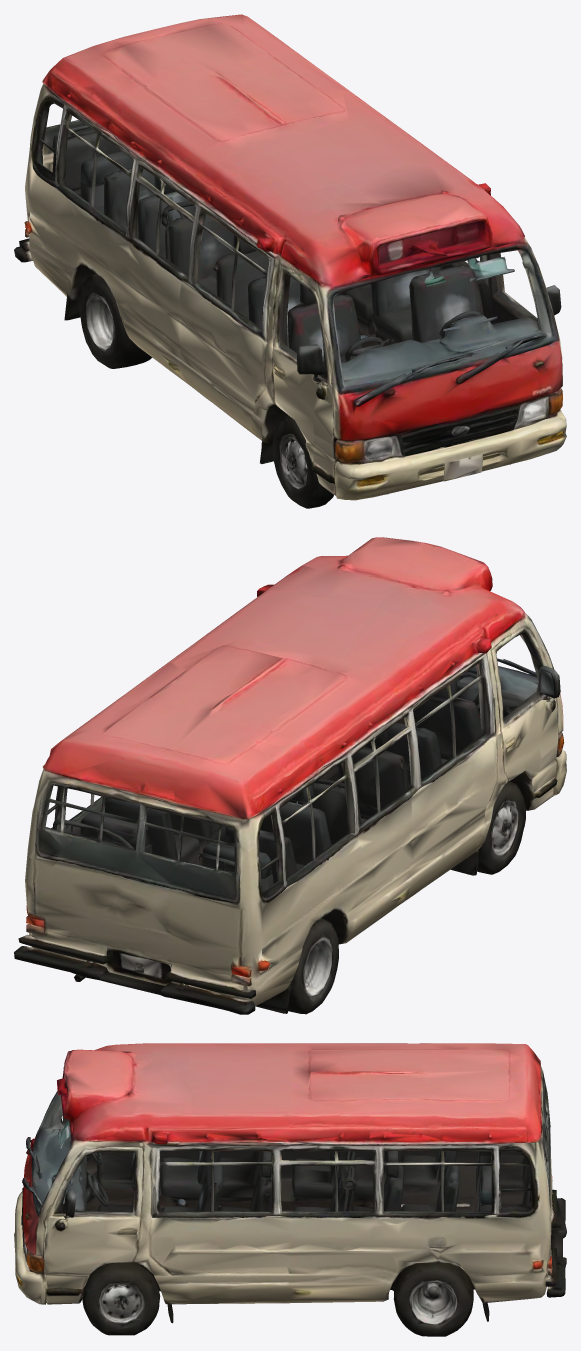
Rendered from minibus.glb.
3 views of the same model, one above another, from view 1: azimuth 30°, elevation 25°; view 2: azimuth 150°, elevation 25°; view 3: azimuth 270°, elevation 25° (orthographic). The views are drawn at different scales.
Visible parts, largest first — view 1: tripo_node_642668d9-f2a9-4ae8-84aa-0a16abb2c73b; view 2: tripo_node_642668d9-f2a9-4ae8-84aa-0a16abb2c73b; view 3: tripo_node_642668d9-f2a9-4ae8-84aa-0a16abb2c73b.
Boxes of the visible parts, <box> form: tripo_node_642668d9-f2a9-4ae8-84aa-0a16abb2c73b: <box>14,14,566,508</box>; tripo_node_642668d9-f2a9-4ae8-84aa-0a16abb2c73b: <box>14,537,566,1014</box>; tripo_node_642668d9-f2a9-4ae8-84aa-0a16abb2c73b: <box>14,1043,566,1336</box>.
Bounding box in the file's own units: 0.4367 × 0.4436 × 0.9787.
Materials: 1 (1 with a texture image).
